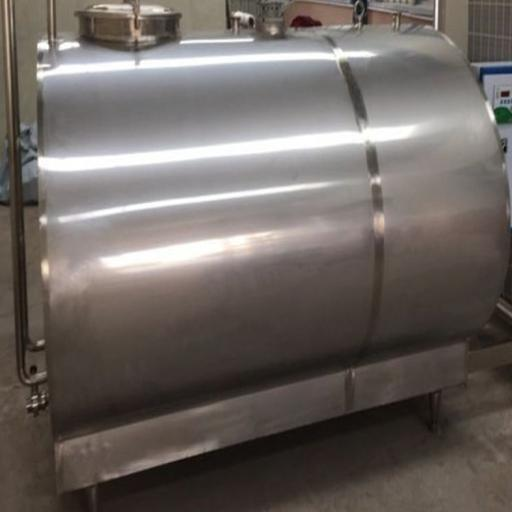silo: (36, 2, 511, 511)
